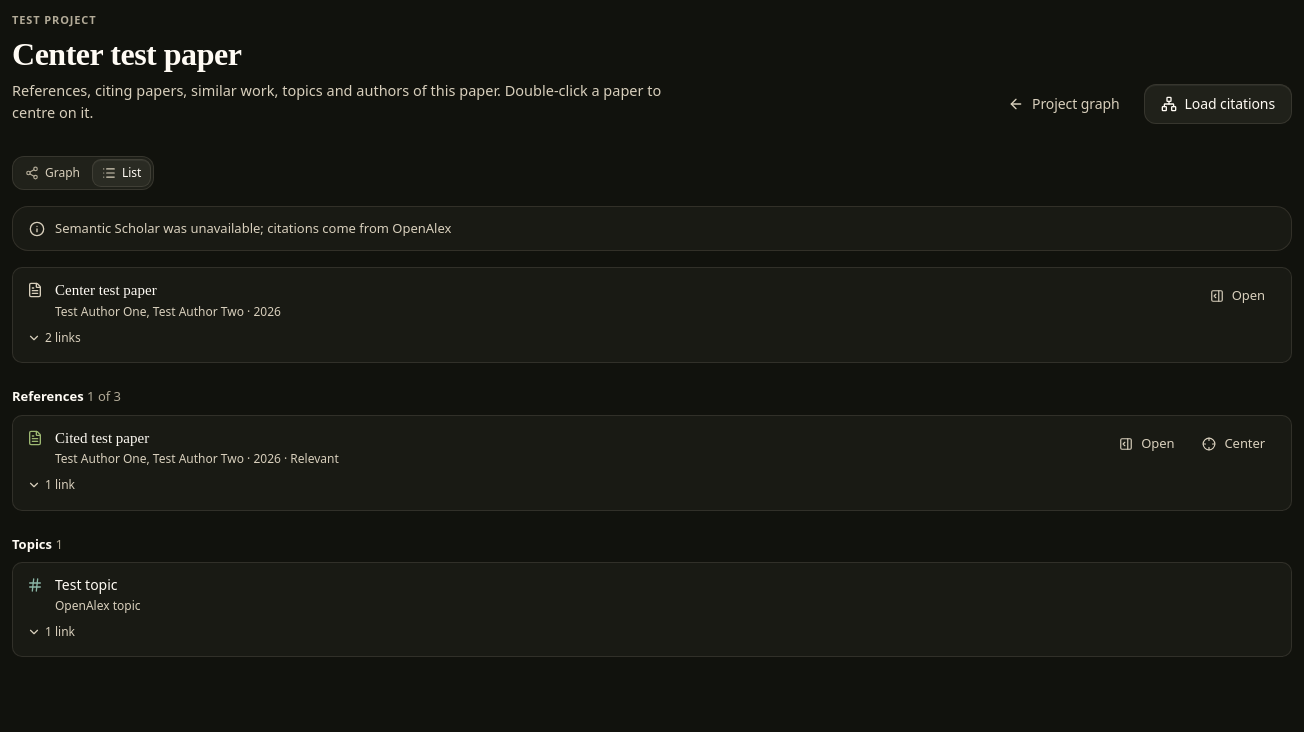
GraphPage › asks for citations and reports a recent expansion
Click the button "Load citations": x=1218, y=104 [1144,84,1292,124]
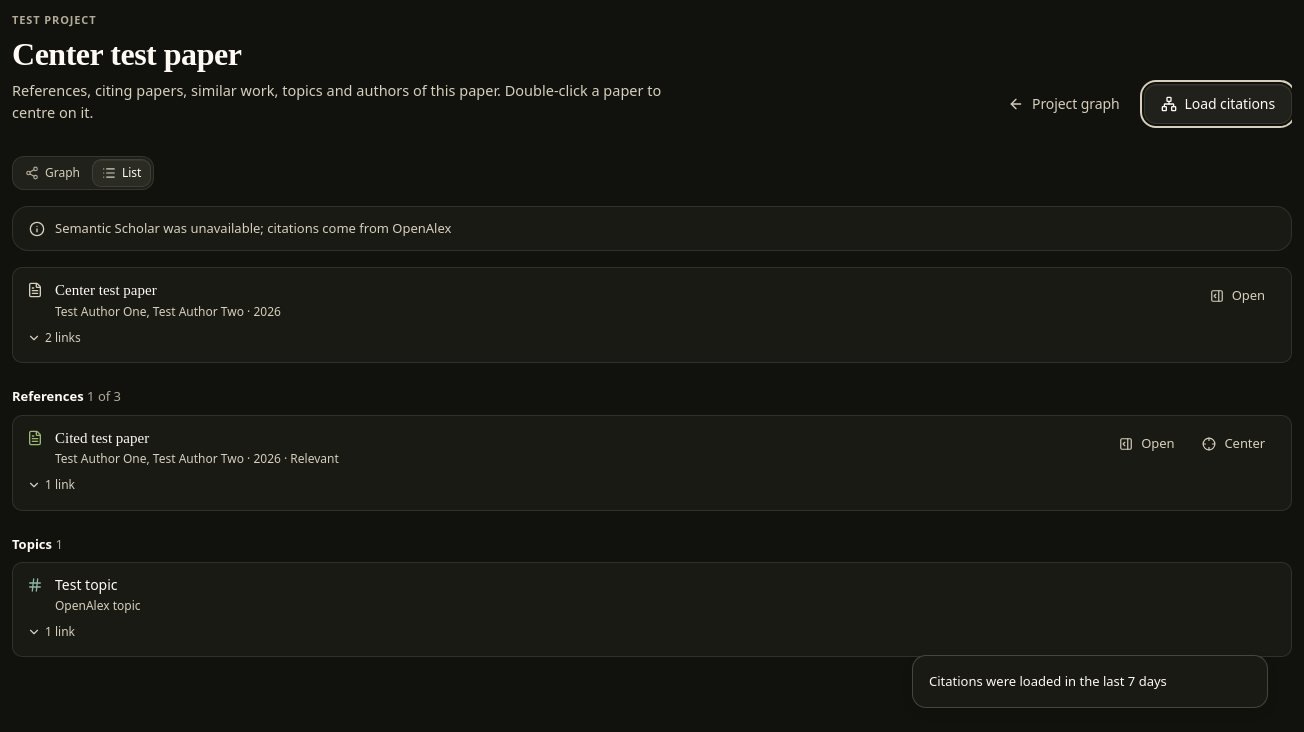
Now the text "Citations were loaded in the last 7 days" is shown, box [929,672,1167,691]
